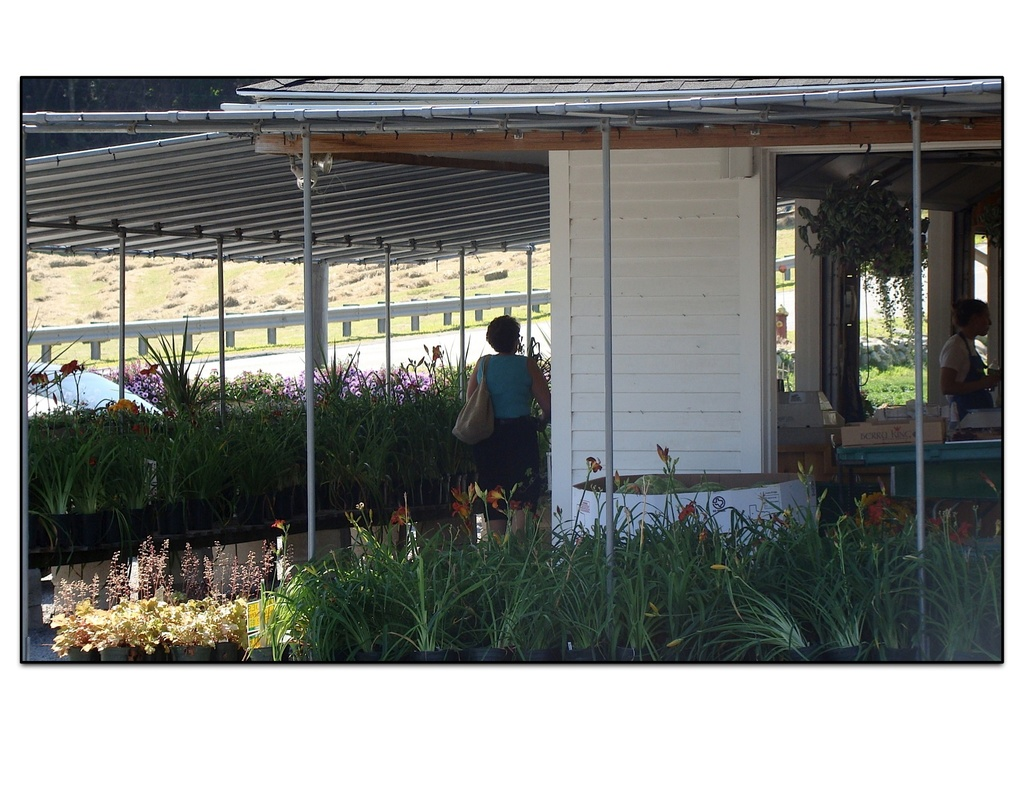person: (450, 314, 552, 510)
